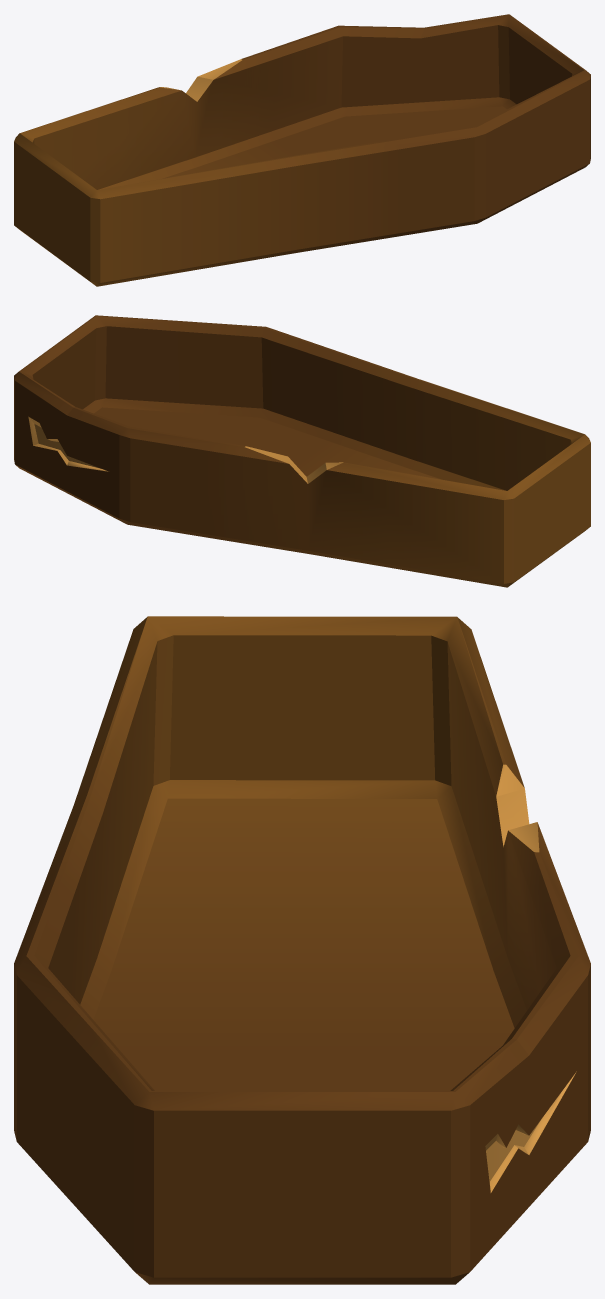
Rendered from Cofin_1_1.glb.
3 renders of one model, top to bottom at view 1: azimuth 30°, elevation 25°; view 2: azimuth 150°, elevation 25°; view 3: azimuth 270°, elevation 25°, orthographic. The views are drawn at different scales.
Visible parts, largest first — view 1: Cofin_1_1; view 2: Cofin_1_1; view 3: Cofin_1_1.
Boxes of the visible parts, x1,y1,x2,y2 form: Cofin_1_1: [14, 14, 590, 286]; Cofin_1_1: [14, 315, 590, 587]; Cofin_1_1: [14, 616, 590, 1284].
Size of the model in its own units: 1.32 by 0.2435 by 0.6612.
1 material, 1 textured.
